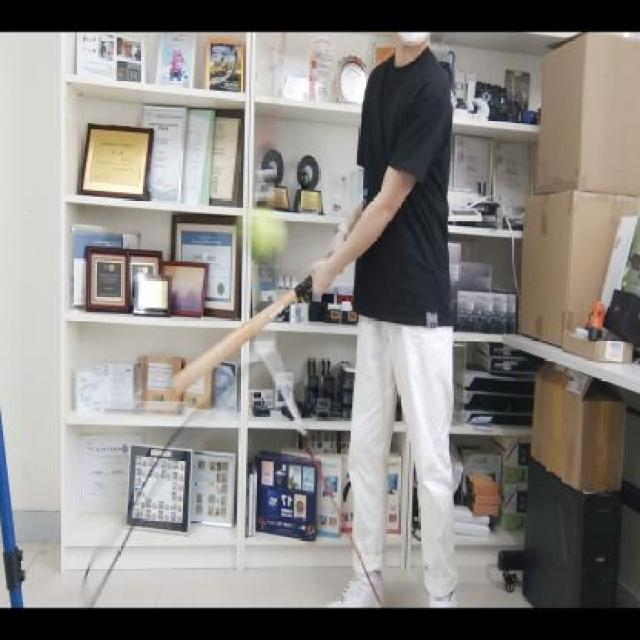baseball: (237, 196, 289, 261)
